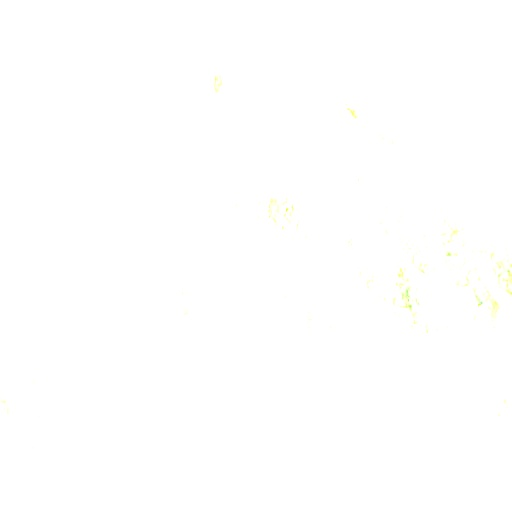Angular Leafspot: (0, 57, 511, 423)
